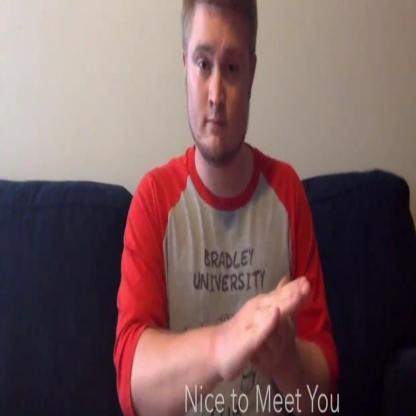NiceToMeetYou: (221, 248, 315, 392)
